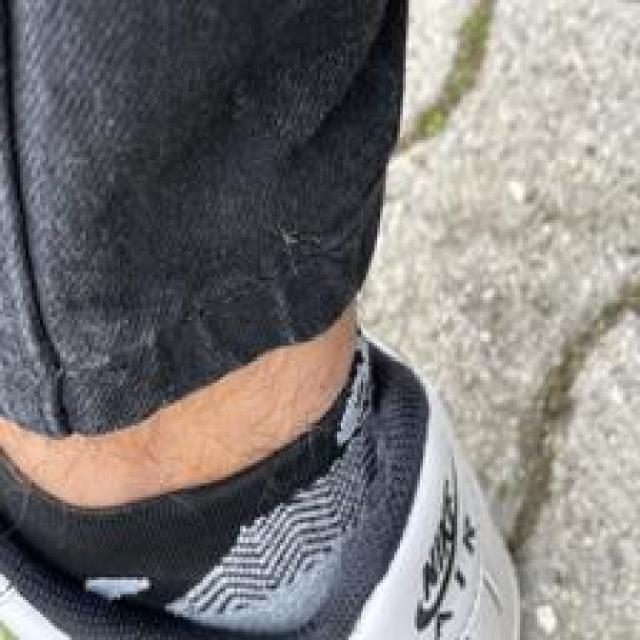Aedes albopictus: (0, 0, 529, 640)
